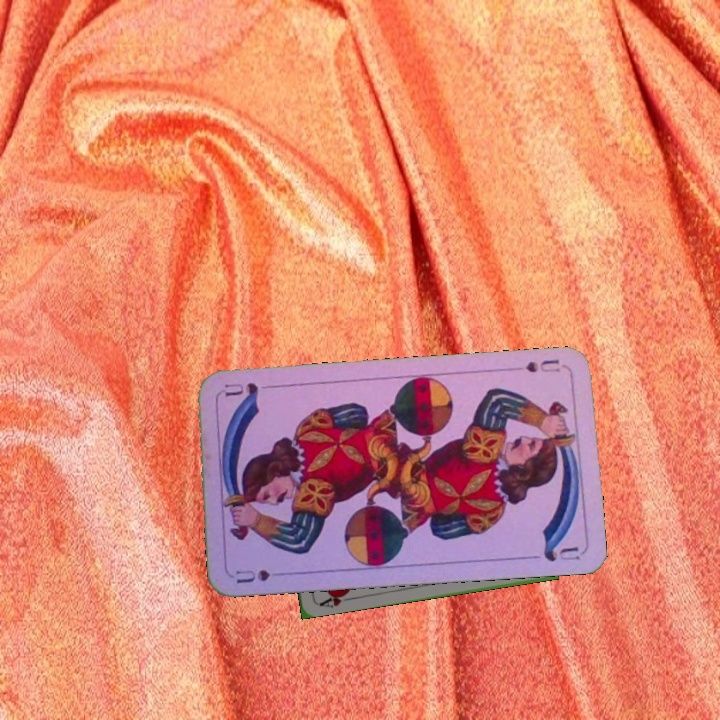HA: (315, 587, 355, 610)
SU: (232, 565, 272, 586), (521, 355, 562, 375)
